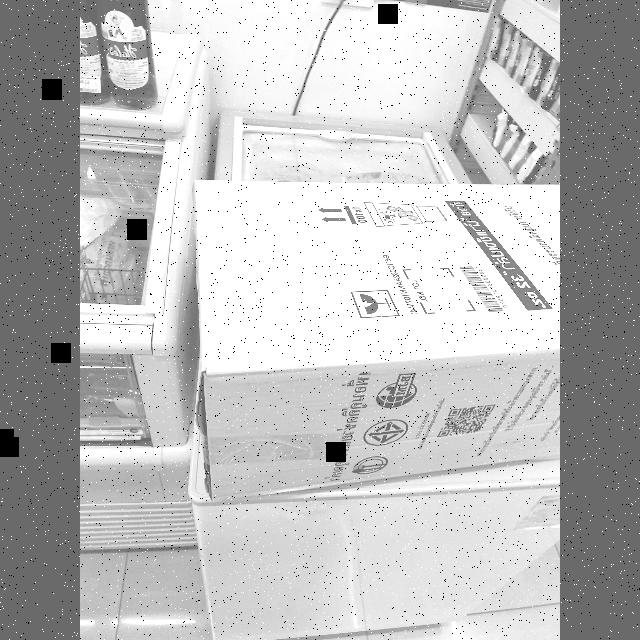cardboard_box: (170, 176, 560, 502)
